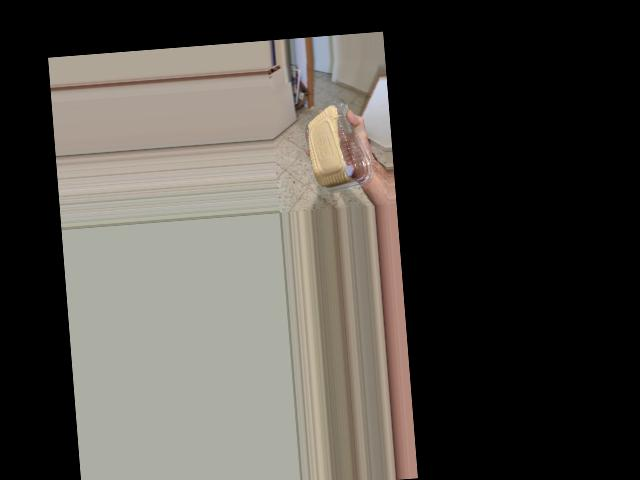cheese: (314, 121, 357, 198)
